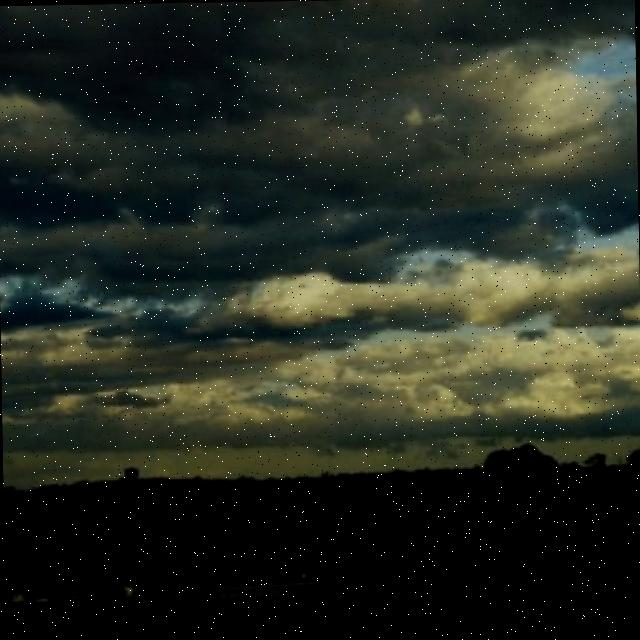St: (1, 1, 640, 408)
